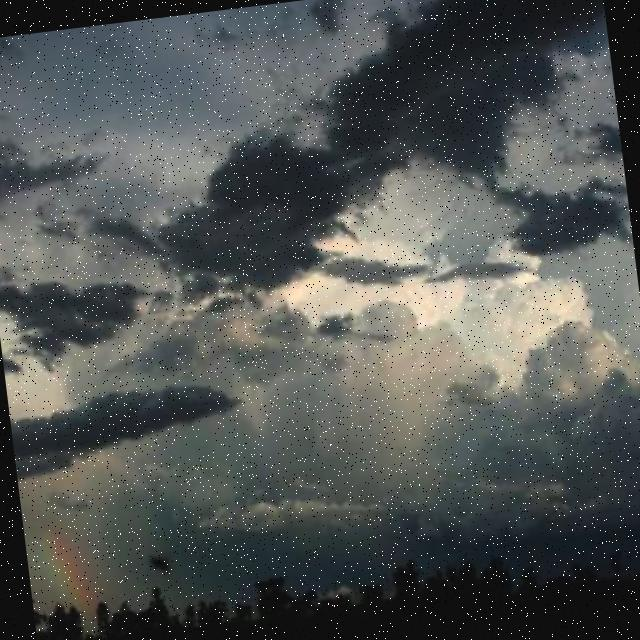Cb: (1, 1, 640, 571)
